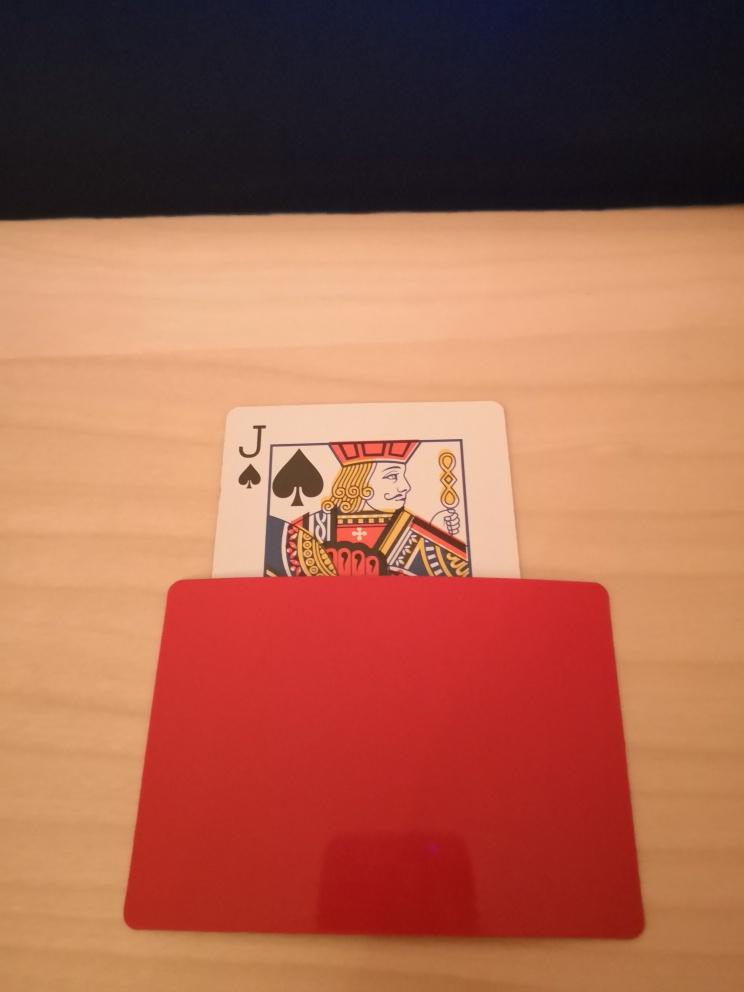jack: (212, 402, 521, 581)
